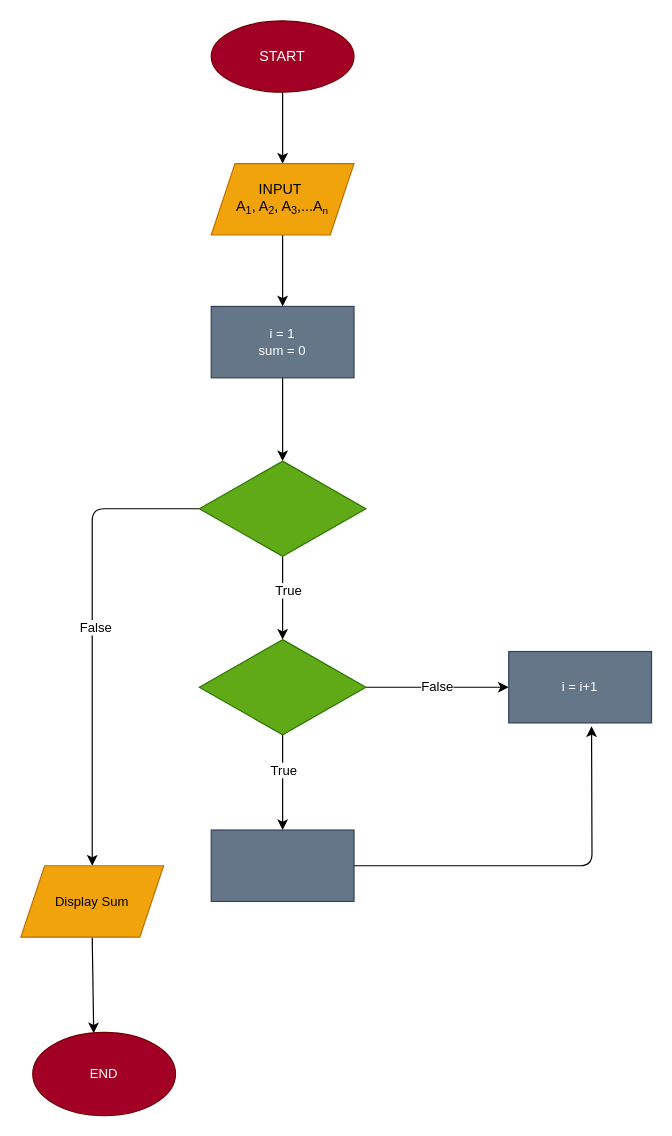
Image size: 672x1136. Some labels were removed from this diagram. Each missing label, with the centre of its shape:
"ai MOD 2 == 0" goes at point (282, 686).
"i <= N" goes at point (282, 508).
"sum = sum + ai" goes at point (282, 865).
